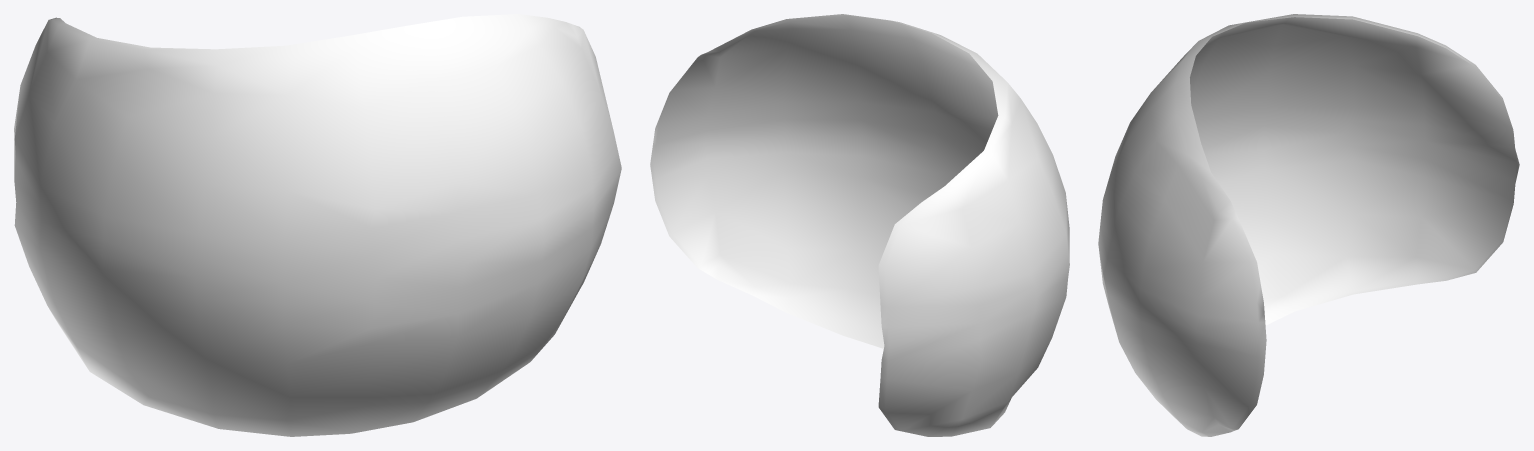
File: HeadPitch_milky.obj
3 renders of one model, left to right at view 1: azimuth 30°, elevation 25°; view 2: azimuth 150°, elevation 25°; view 3: azimuth 270°, elevation 25°, orthographic. The views are drawn at different scales.
Bounding box in the file's own units: 1.94 × 1.44 × 1.67.
Materials: 1 (1 with a texture image).
